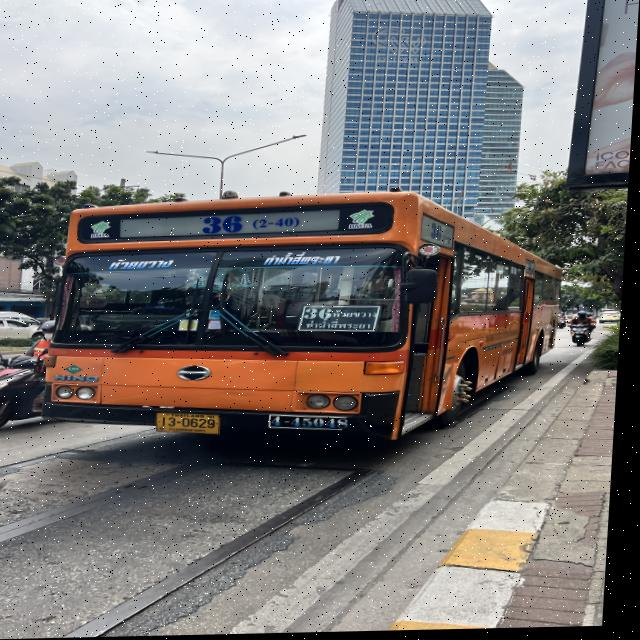BMTA-bus: (39, 194, 568, 445)
Bus Line Number: (189, 211, 314, 241)
Bus Side Number: (270, 412, 362, 435)
Destination Sign: (291, 304, 392, 338)
